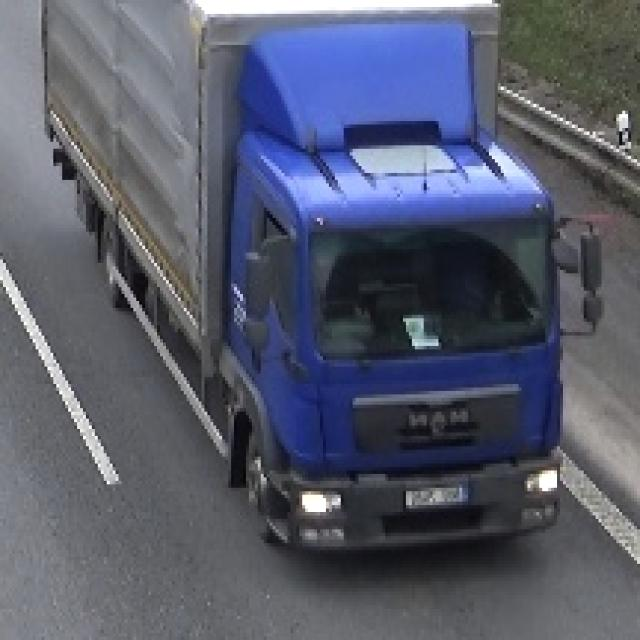truck: (40, 1, 603, 555)
